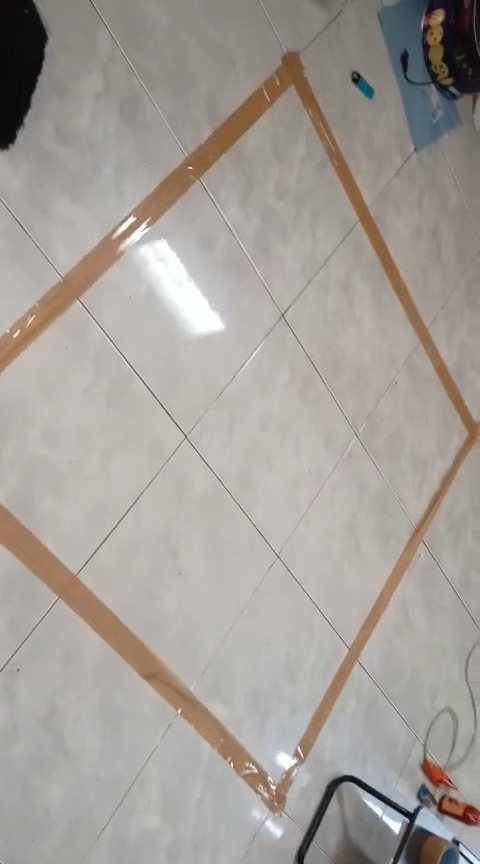floor marking: (0, 52, 479, 811)
